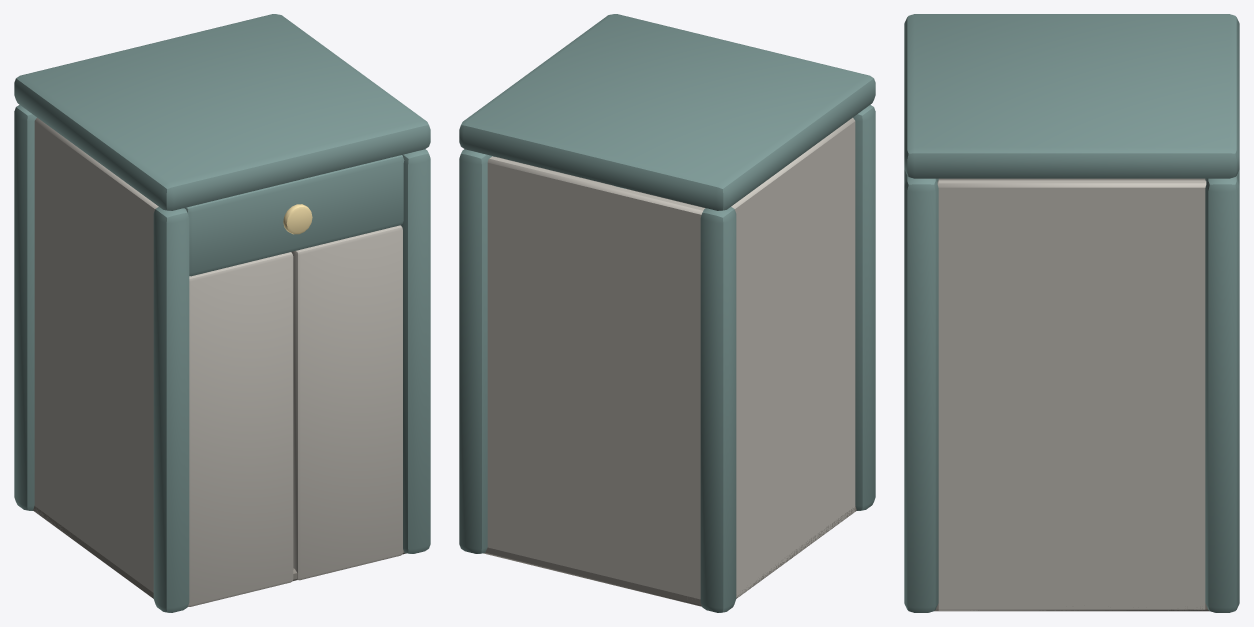
The model's file is lift.glb.
The picture shows the model from 3 angles, left to right: view 1: azimuth 30°, elevation 25°; view 2: azimuth 150°, elevation 25°; view 3: azimuth 270°, elevation 25°; orthographic projection. The views are drawn at different scales.
Parts seen in each view (by area): view 1: steel, paint, steel_dark, light; view 2: steel, paint, steel_dark; view 3: steel, paint, steel_dark.
Part boxes in pixels (x1,y1,x2,y2): steel: (34, 117, 402, 606); paint: (14, 14, 430, 612); steel_dark: (33, 506, 406, 598); light: (283, 204, 312, 234); steel: (487, 117, 855, 606); paint: (459, 14, 875, 612); steel_dark: (483, 506, 856, 606); steel: (937, 178, 1206, 610); paint: (904, 14, 1239, 612); steel_dark: (934, 603, 1209, 611).
Size of the model in its own units: 0.98 by 1.5 by 0.98.
